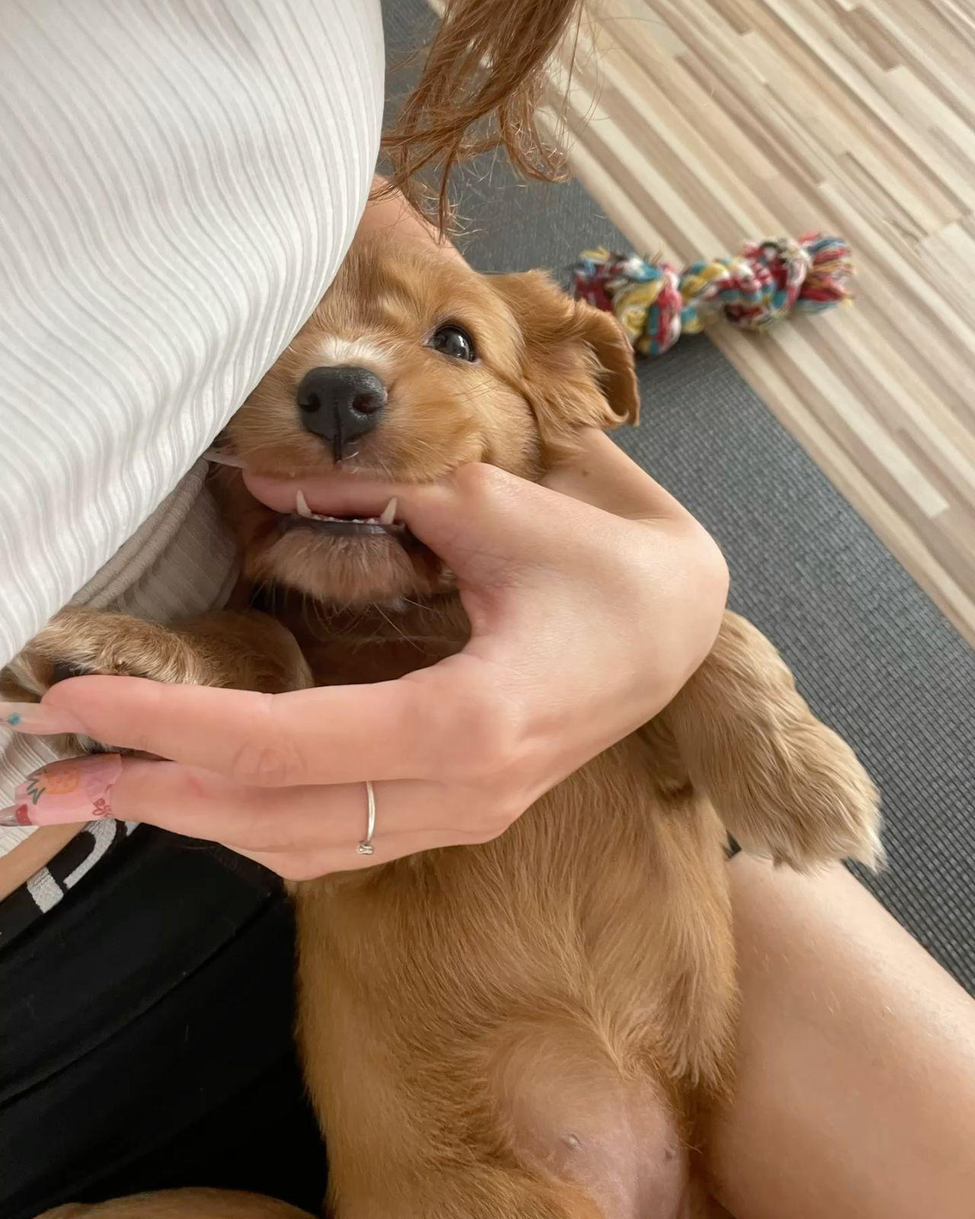puppy-dog: (5, 230, 878, 1219)
